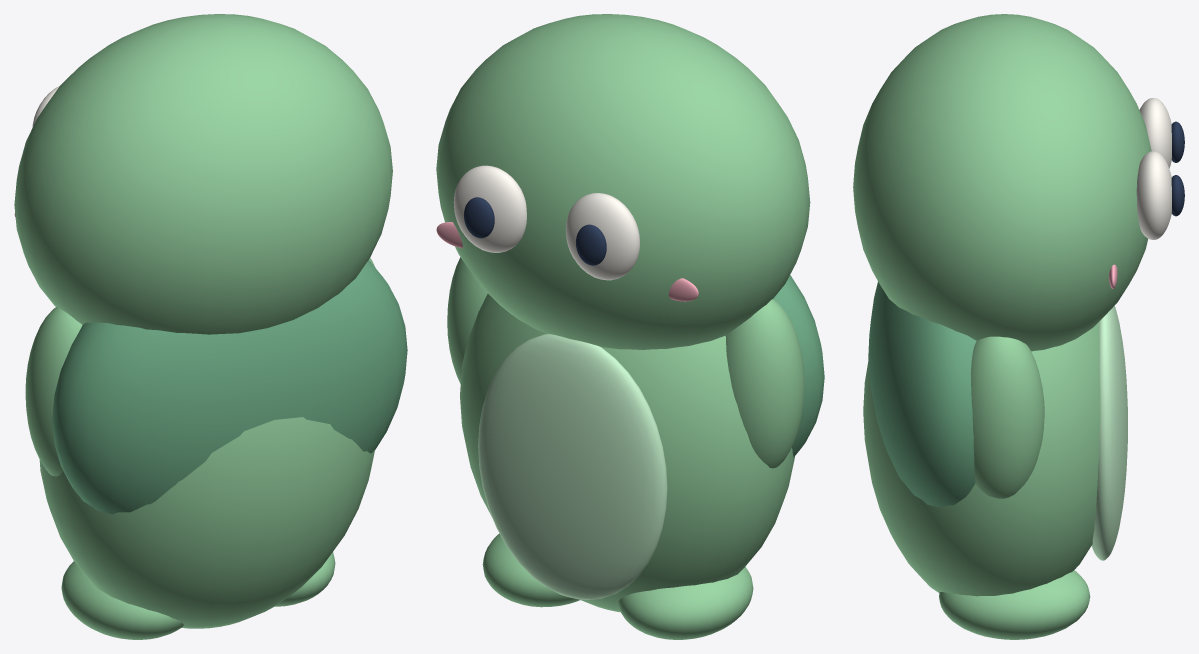
The model's file is operations-turtle.glb.
3 renders of one model, left to right at view 1: azimuth 30°, elevation 25°; view 2: azimuth 150°, elevation 25°; view 3: azimuth 270°, elevation 25°, orthographic. The views are drawn at different scales.
Parts seen in each view (by area): view 1: Head.005, Shell, Body.005, Arm.010, Foot.010, Foot.011; view 2: Head.005, Belly.005, Body.005, Arm.010, Foot.010, Eye.010, Eye.011, Shell, Foot.011, Arm.011, Pupil.010, Pupil.011 (+1 smaller); view 3: Head.005, Body.005, Shell, Arm.011, Belly.005, Foot.011, Eye.011, Eye.010, Pupil.010, Pupil.011.
Boxes of the visible parts, x1,y1,x2,y2 form: Head.005: (14,14,392,334); Shell: (52,260,407,514); Body.005: (39,417,374,628); Arm.010: (25,307,82,476); Foot.010: (61,561,183,639); Foot.011: (275,552,335,606); Head.005: (436,14,810,349); Belly.005: (478,334,667,599); Body.005: (460,293,794,612); Arm.010: (725,299,804,468); Foot.010: (618,567,753,639); Eye.010: (565,193,639,280); Eye.011: (453,165,526,252); Shell: (773,275,824,456); Foot.011: (482,533,579,607); Arm.011: (447,257,487,383); Pupil.010: (576,224,606,265); Pupil.011: (464,197,494,238); Head.005: (853,14,1151,351); Body.005: (863,322,1100,596); Shell: (868,281,976,507); Arm.011: (970,336,1044,498); Belly.005: (1091,306,1127,560); Foot.011: (939,570,1090,639); Eye.011: (1136,151,1171,239); Eye.010: (1139,98,1171,168); Pupil.010: (1171,121,1184,162); Pupil.011: (1171,175,1184,216).
Bounding box in the file's own units: 1.54 × 2.47 × 1.31.
